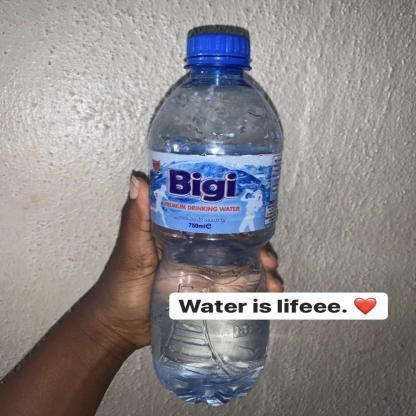bottle: (147, 32, 287, 408)
